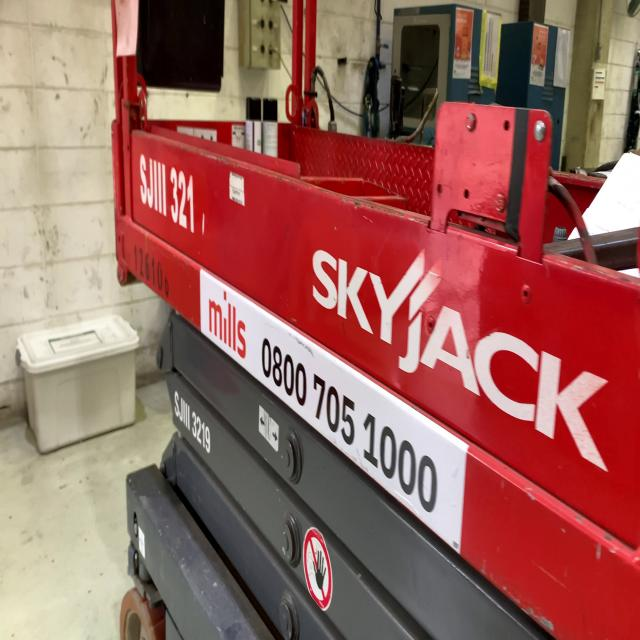Adesivo Longo: (198, 266, 471, 560)
